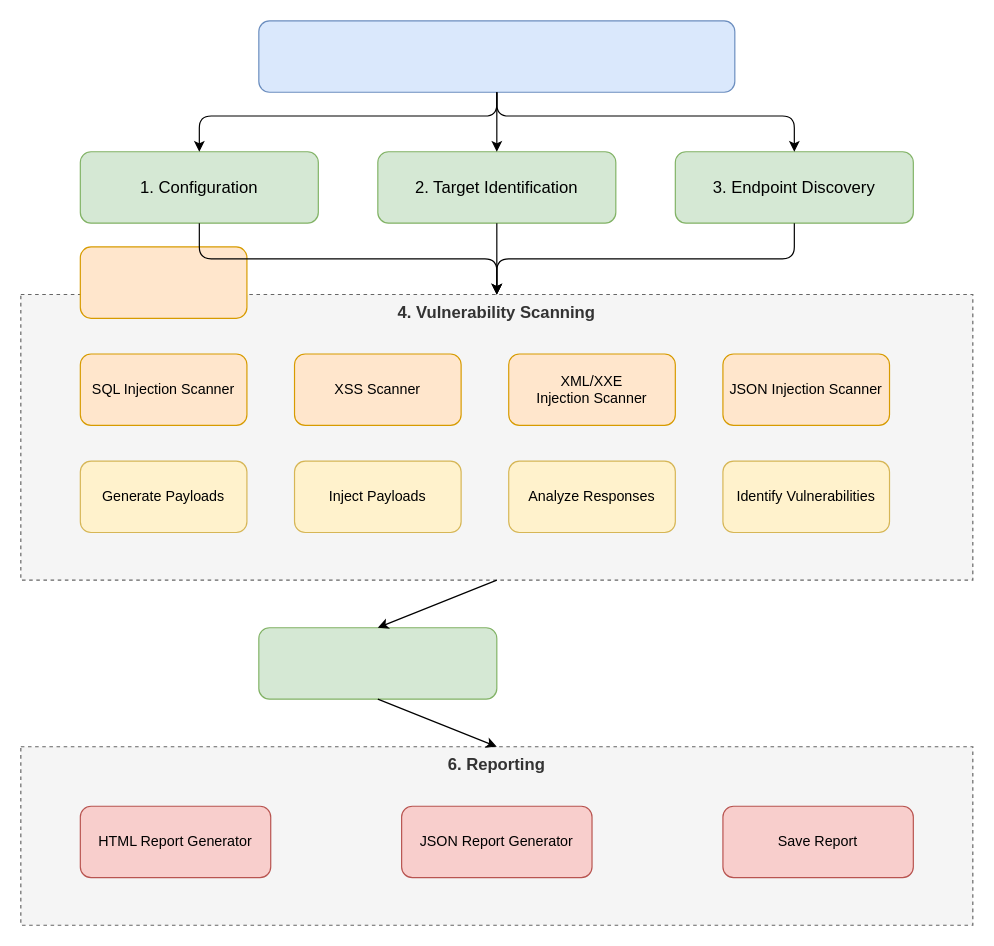
Image size: 994x946. Some labels were removed from this diagram. Here are the shapes that lost their labels. From the top down, the centre of each, then its label:
At point (496, 56): "SentinelVulnScan Workflow".
At point (163, 282): "Command Injection Scanner".
At point (377, 663): "5. Vulnerability Collection".
